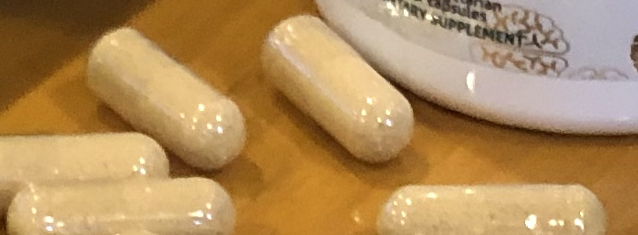capsule: (257, 14, 415, 164), (83, 26, 247, 169), (1, 131, 169, 216), (5, 177, 238, 235), (377, 184, 605, 235)
